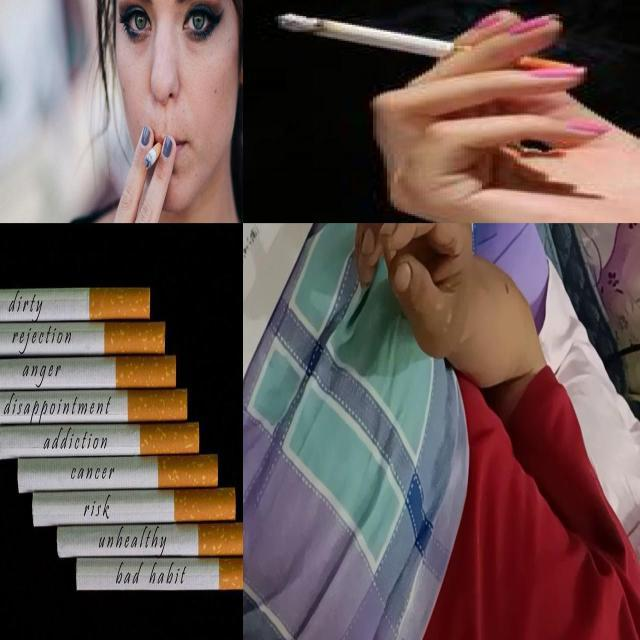smoke: (276, 14, 578, 78), (17, 454, 219, 494), (0, 422, 200, 461), (32, 488, 236, 526), (0, 388, 188, 426), (56, 520, 242, 558), (0, 354, 177, 393), (0, 322, 166, 358), (76, 556, 242, 592), (0, 288, 151, 326), (143, 133, 163, 171), (384, 223, 398, 241)
